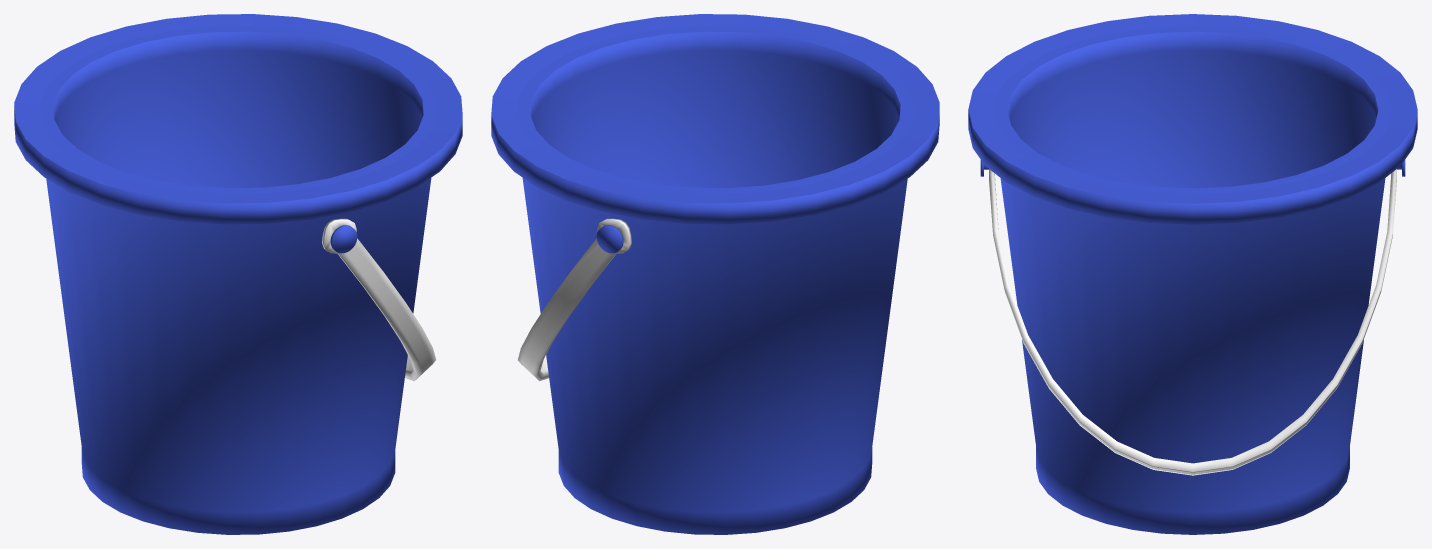
File: Sand Bucket.fbx
3 views of the same model, side by side, from view 1: azimuth 30°, elevation 25°; view 2: azimuth 150°, elevation 25°; view 3: azimuth 270°, elevation 25° (orthographic).
Parts seen in each view (by area): view 1: Cylinder.010, Sphere, Cylinder.012; view 2: Cylinder.010, Sphere, Cylinder.011; view 3: Cylinder.010, Sphere.
Boxes of the visible parts, x1,y1,x2,y2 form: Cylinder.010: (14,14,462,534); Sphere: (322,218,435,381); Cylinder.012: (330,225,357,253); Cylinder.010: (491,14,939,534); Sphere: (518,218,631,381); Cylinder.011: (596,225,623,253); Cylinder.010: (968,14,1417,534); Sphere: (989,169,1396,475).
Size of the model in its own units: 286 by 253 by 286.
